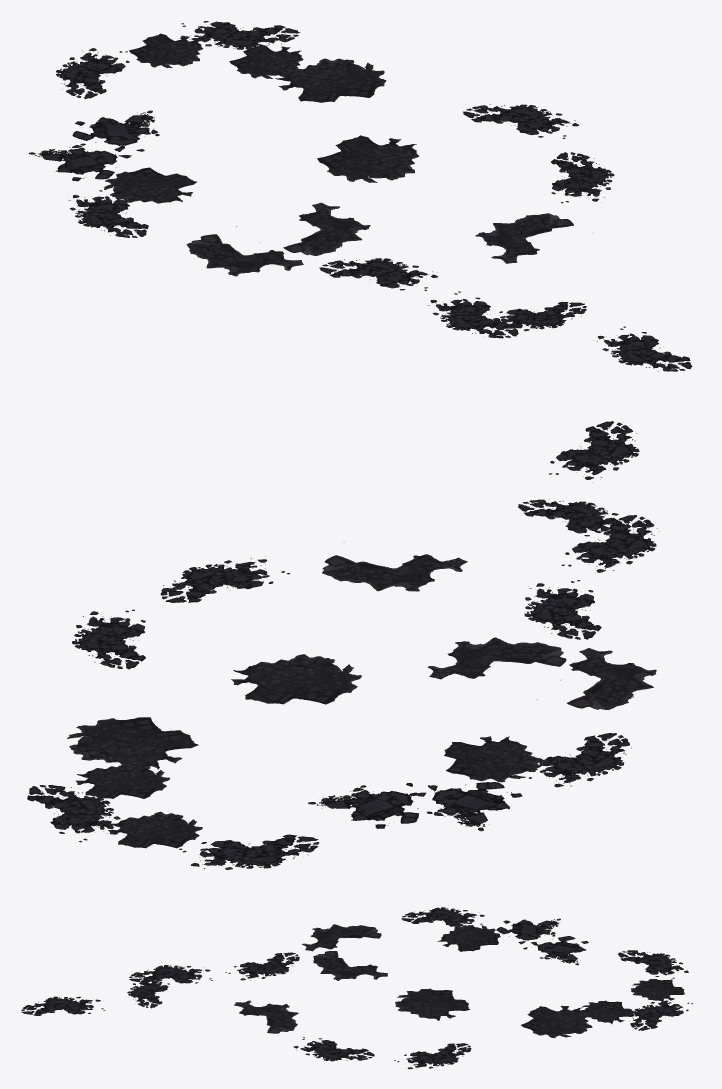
The model's file is mesh_suishi.FBX.
The picture shows the model from 3 angles, top to bottom: view 1: azimuth 30°, elevation 25°; view 2: azimuth 150°, elevation 25°; view 3: azimuth 270°, elevation 25°; orthographic projection. The views are drawn at different scales.
Parts seen in each view (by area): view 1: mesh_suishi; view 2: mesh_suishi; view 3: mesh_suishi.
Boxes of the visible parts, x1=… form: mesh_suishi: x1=28, y1=21, x2=692, y2=371; mesh_suishi: x1=27, y1=421, x2=659, y2=869; mesh_suishi: x1=21, y1=907, x2=692, y2=1069.
Bounding box in the file's own units: 2514 × 2.22 × 4264.
